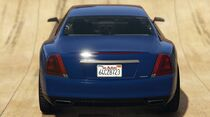car: (39, 4, 186, 116)
